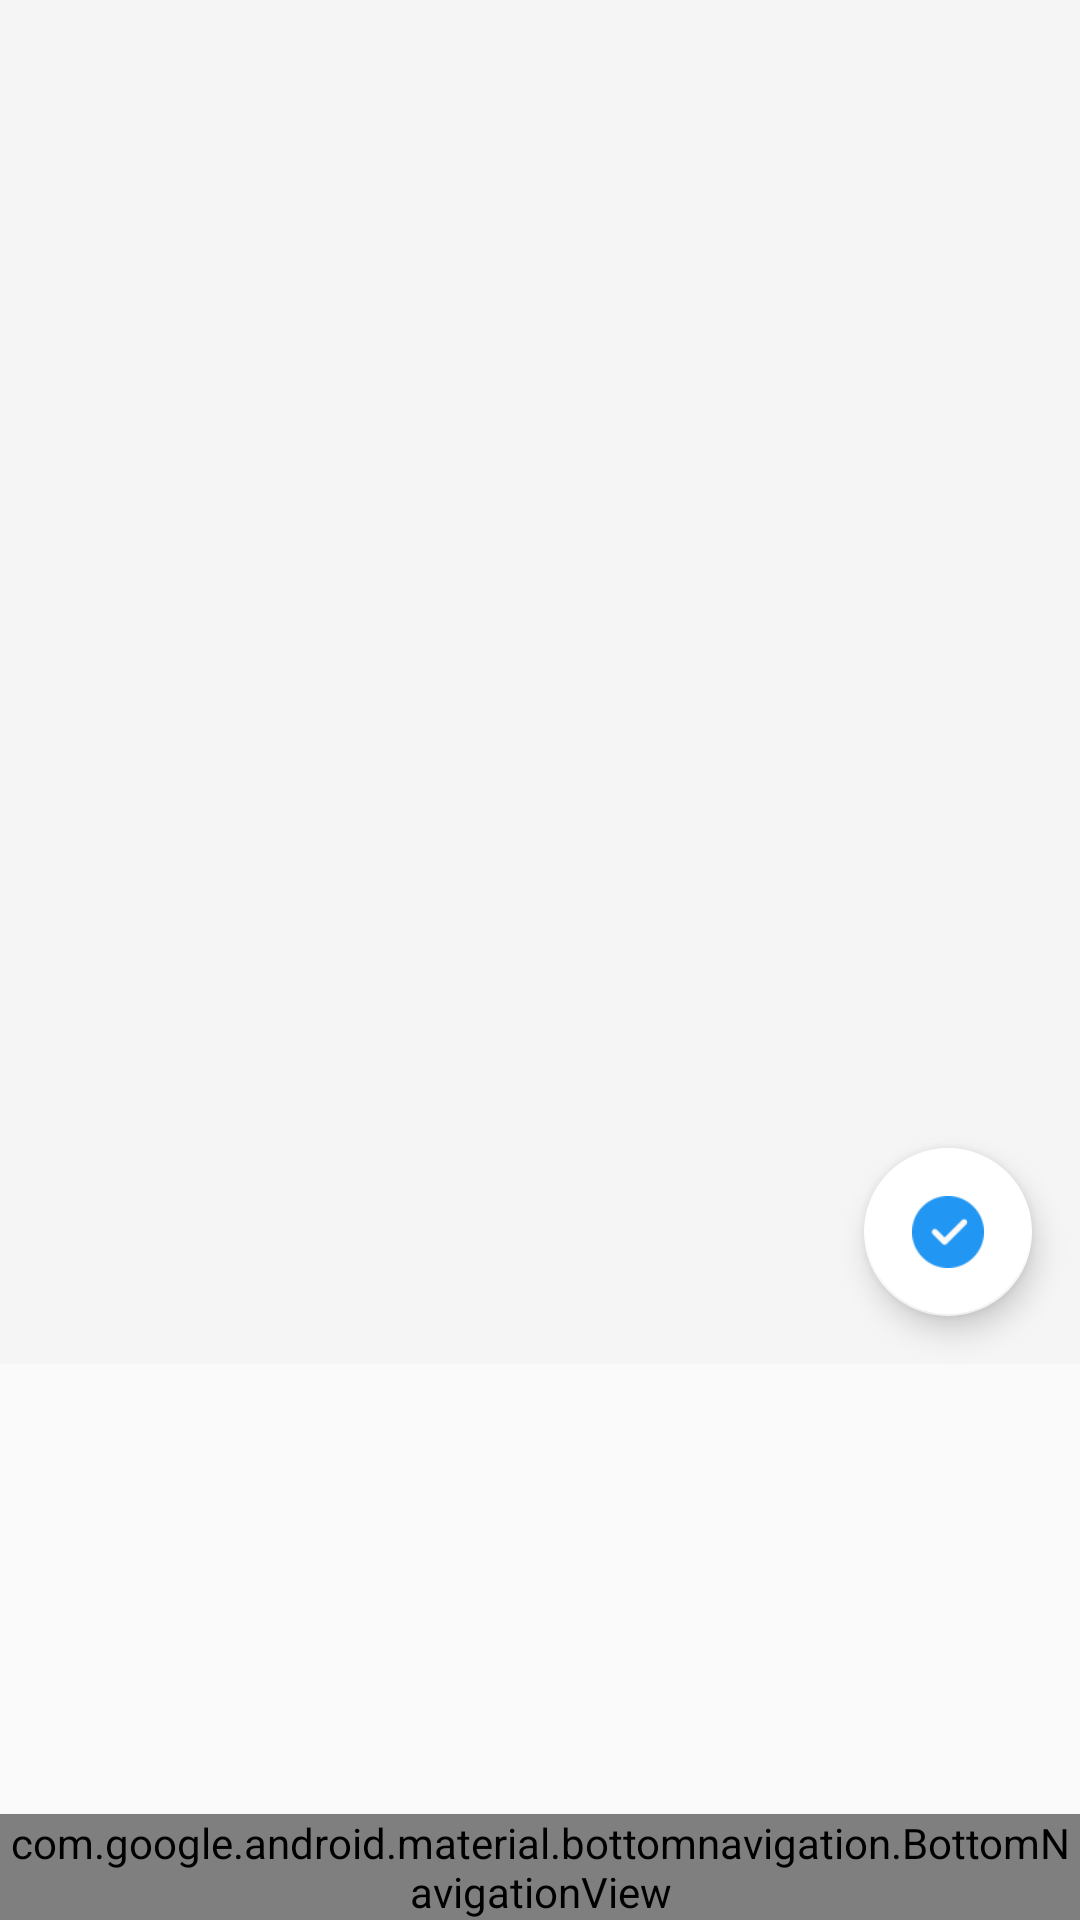

Point at icon controls on the screen. Image size 1080*1920, points as [x,y].
check: [948,1232]
